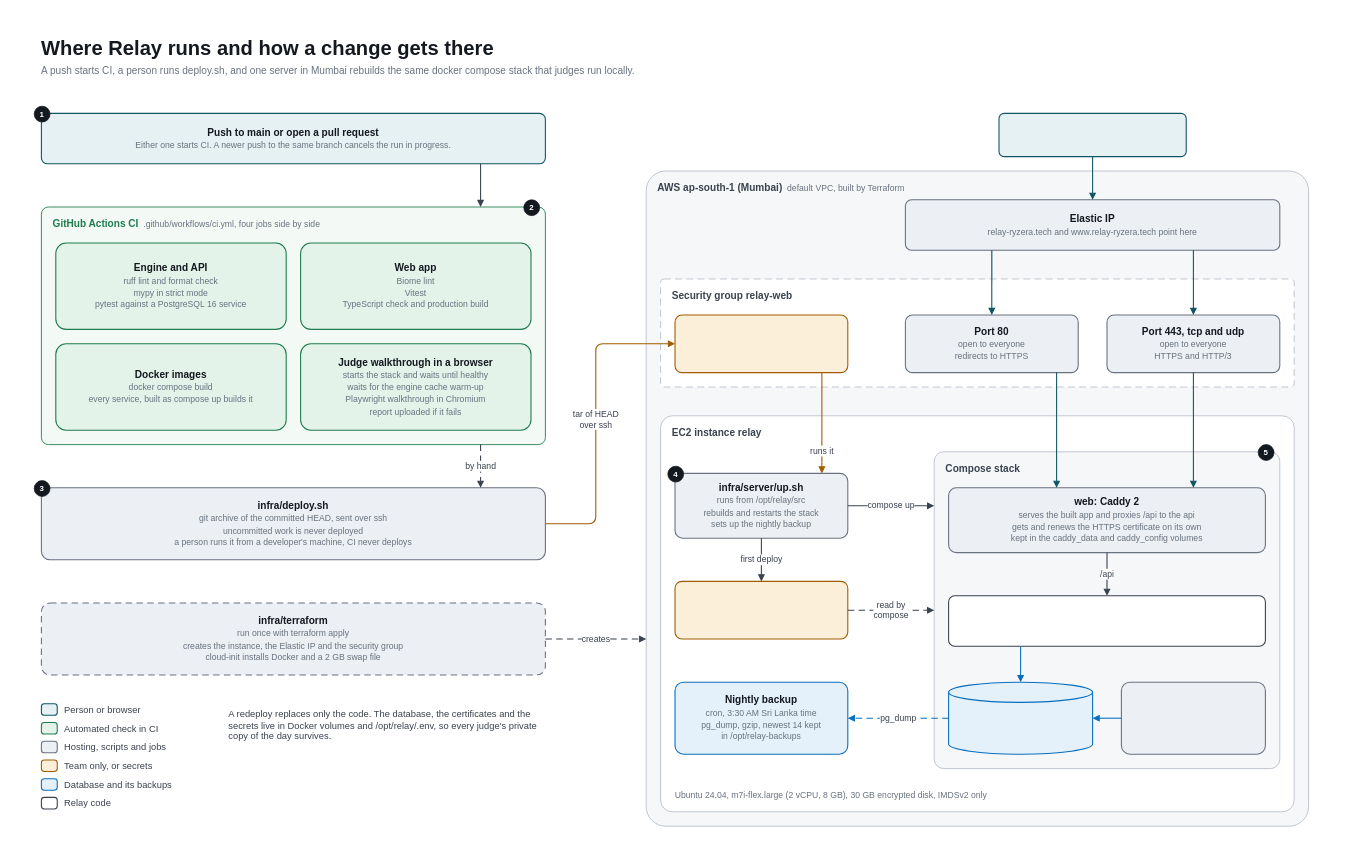
This 1349x867 diagram has some shape labels left out. The shapes that lost their labels are listed below. From the top down, each one's centre as x and y in pixels, then its label:
At (1092,135): "Visitors judges and the team, in a browser".
At (761,343): "Port 22, ssh team addresses only used by deploy.sh".
At (761,610): "/opt/relay/.env settings and random secrets owner only".
At (1107,620): "api: FastAPI relay-api serve on port 8000 no published port, reached through web".
At (1020,717): "db: PostgreSQL 16 pgdata volume no published port".
At (1193,717): "migrate: one-shot runs once per start: schema, then seed data".
